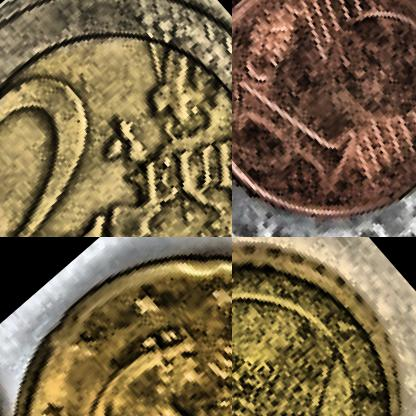coin: (0, 0, 231, 236), (232, 0, 415, 236), (0, 237, 231, 415), (232, 237, 415, 415)
